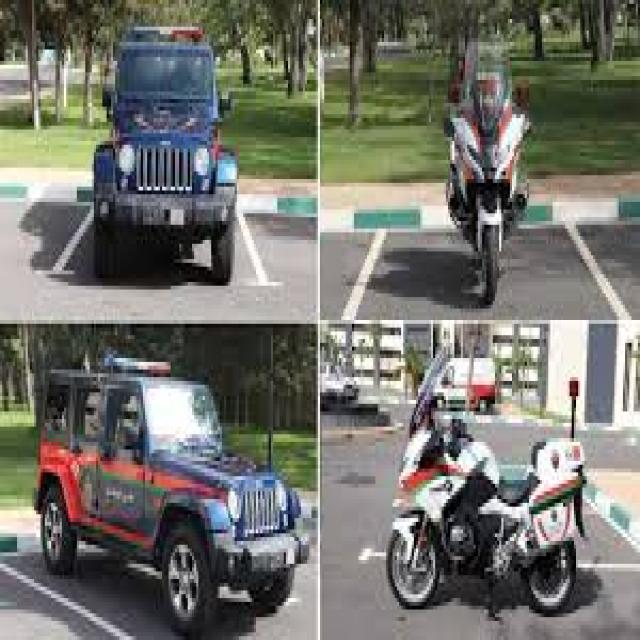police: (34, 358, 310, 628), (86, 22, 246, 290)
